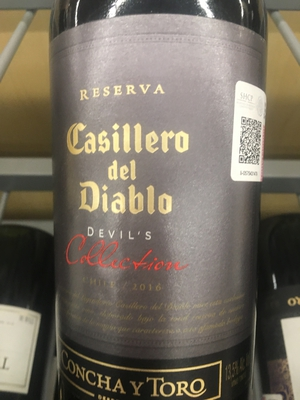casillero del diablo devils collection rojo: (47, 7, 278, 400)
